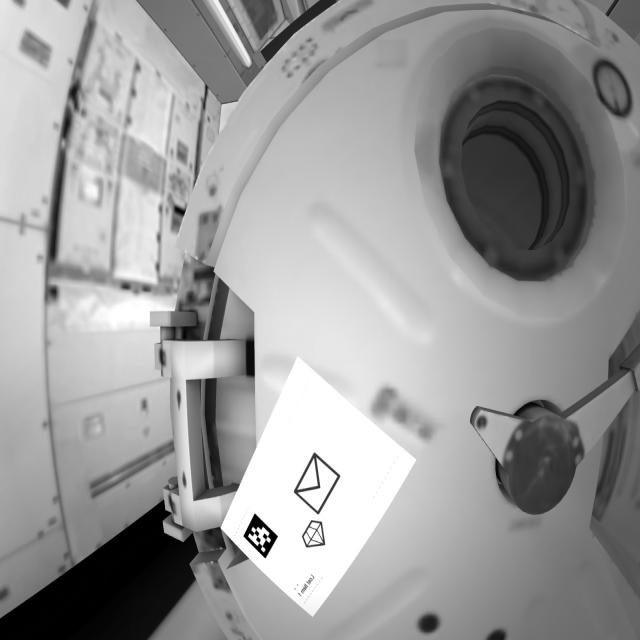diamond: (300, 515, 332, 554)
letter: (292, 450, 347, 520)
